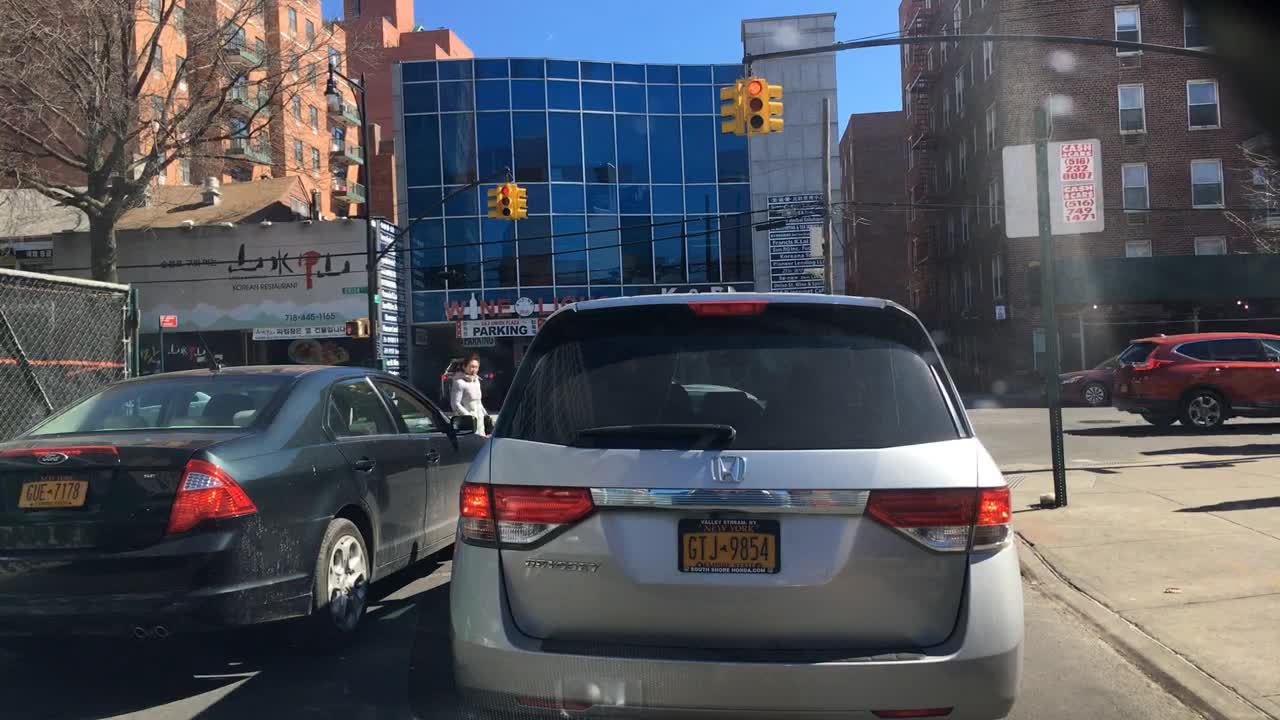car: (448, 295, 1022, 715), (3, 364, 491, 660), (1112, 331, 1279, 427), (1054, 353, 1110, 407), (439, 353, 496, 405)
person: (448, 350, 491, 441)
traffic light: (740, 75, 766, 132), (766, 82, 788, 135), (716, 84, 738, 135), (513, 188, 531, 223), (498, 187, 513, 218), (483, 187, 496, 220), (343, 320, 361, 336)
traffic sign: (1002, 139, 1105, 239), (159, 312, 179, 326), (340, 288, 363, 294)
